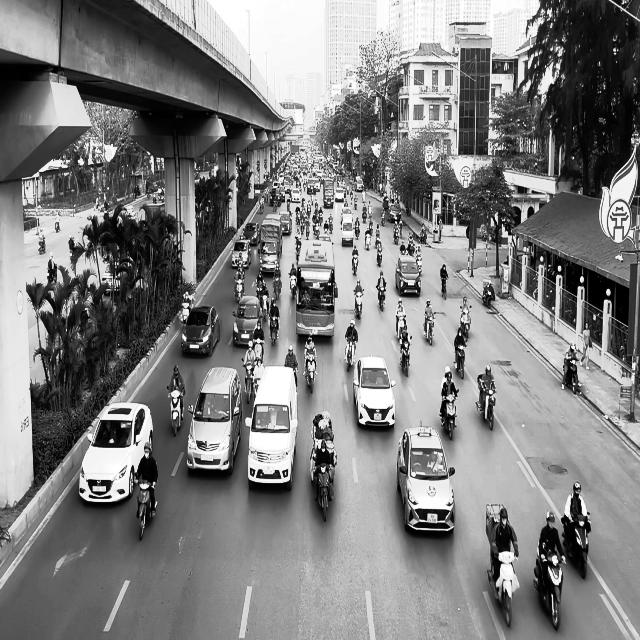bus: (296, 238, 336, 337)
car: (79, 402, 154, 505), (246, 365, 298, 491), (397, 424, 456, 534), (187, 366, 243, 475), (354, 356, 396, 429), (182, 305, 220, 356), (232, 295, 264, 347), (396, 256, 422, 296)
motorbike: (534, 543, 566, 630), (488, 550, 520, 627), (562, 511, 592, 579), (134, 474, 157, 541), (314, 462, 335, 522), (476, 375, 497, 430), (440, 389, 459, 440), (167, 385, 186, 436), (562, 357, 582, 395), (345, 334, 358, 372), (400, 335, 412, 376), (454, 341, 467, 378), (305, 354, 317, 393), (423, 312, 436, 346), (354, 288, 365, 318), (482, 280, 494, 307), (376, 284, 386, 312), (47, 262, 58, 284), (289, 271, 297, 299), (352, 248, 359, 274), (441, 276, 448, 299), (38, 238, 46, 254)
